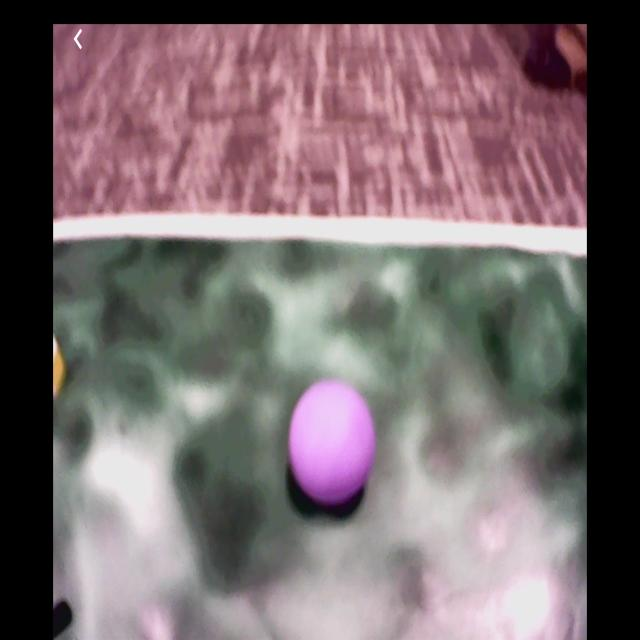ball: (289, 382, 376, 504)
